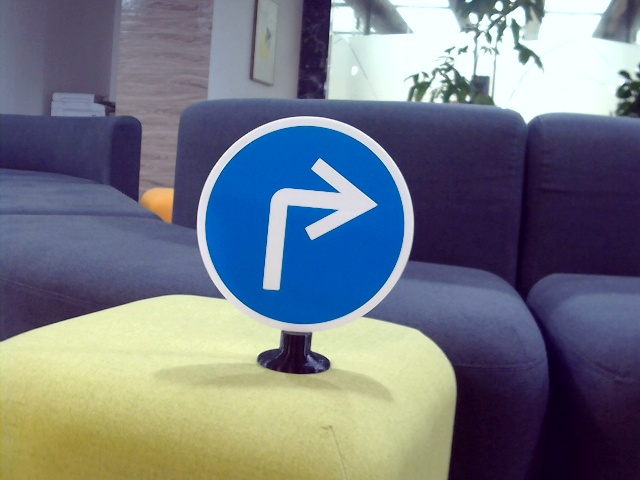turn_right: (248, 154, 374, 293)
